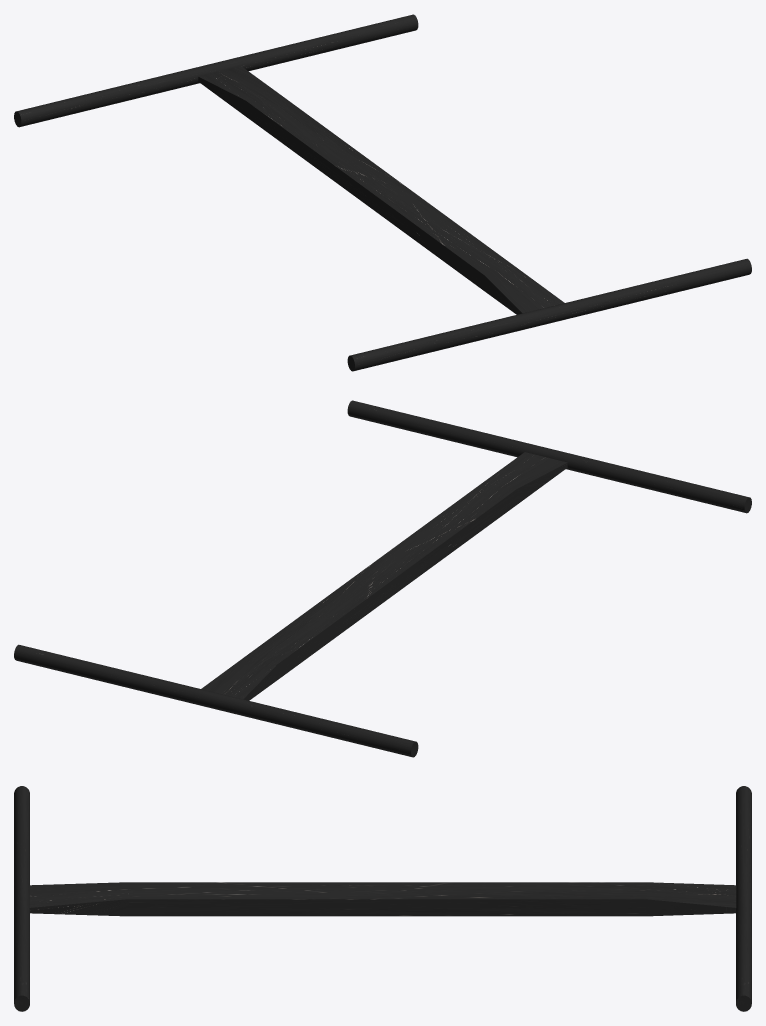
Rendered from MDL_Trolley Alavanca.fbx.
3 views of the same model, one above another, from view 1: azimuth 30°, elevation 25°; view 2: azimuth 150°, elevation 25°; view 3: azimuth 270°, elevation 25° (orthographic). The views are drawn at different scales.
Visible parts, largest first — view 1: Manivela1_pCylinder2; view 2: Manivela1_pCylinder2; view 3: Manivela1_pCylinder2.
Boxes of the visible parts, <box> form: Manivela1_pCylinder2: <box>14,14,751,371</box>; Manivela1_pCylinder2: <box>14,400,751,757</box>; Manivela1_pCylinder2: <box>14,786,751,1011</box>.
Bounding box in the file's own units: 5.5 × 0.2111 × 8.19.
